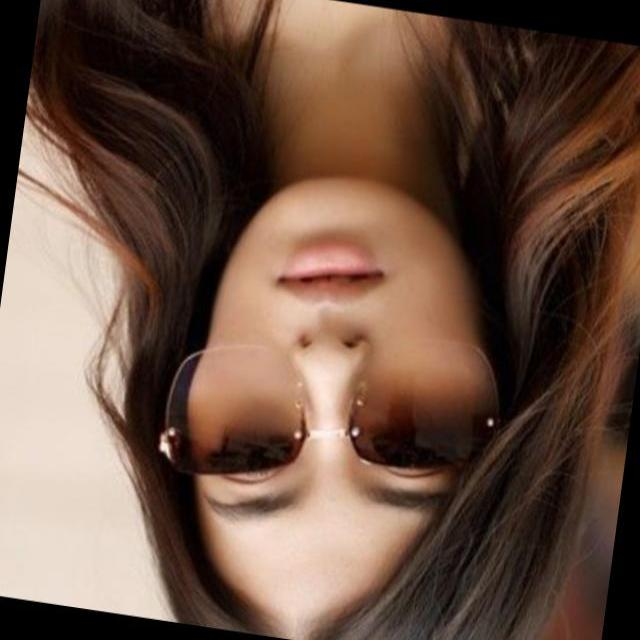glasses: (155, 296, 504, 520)
